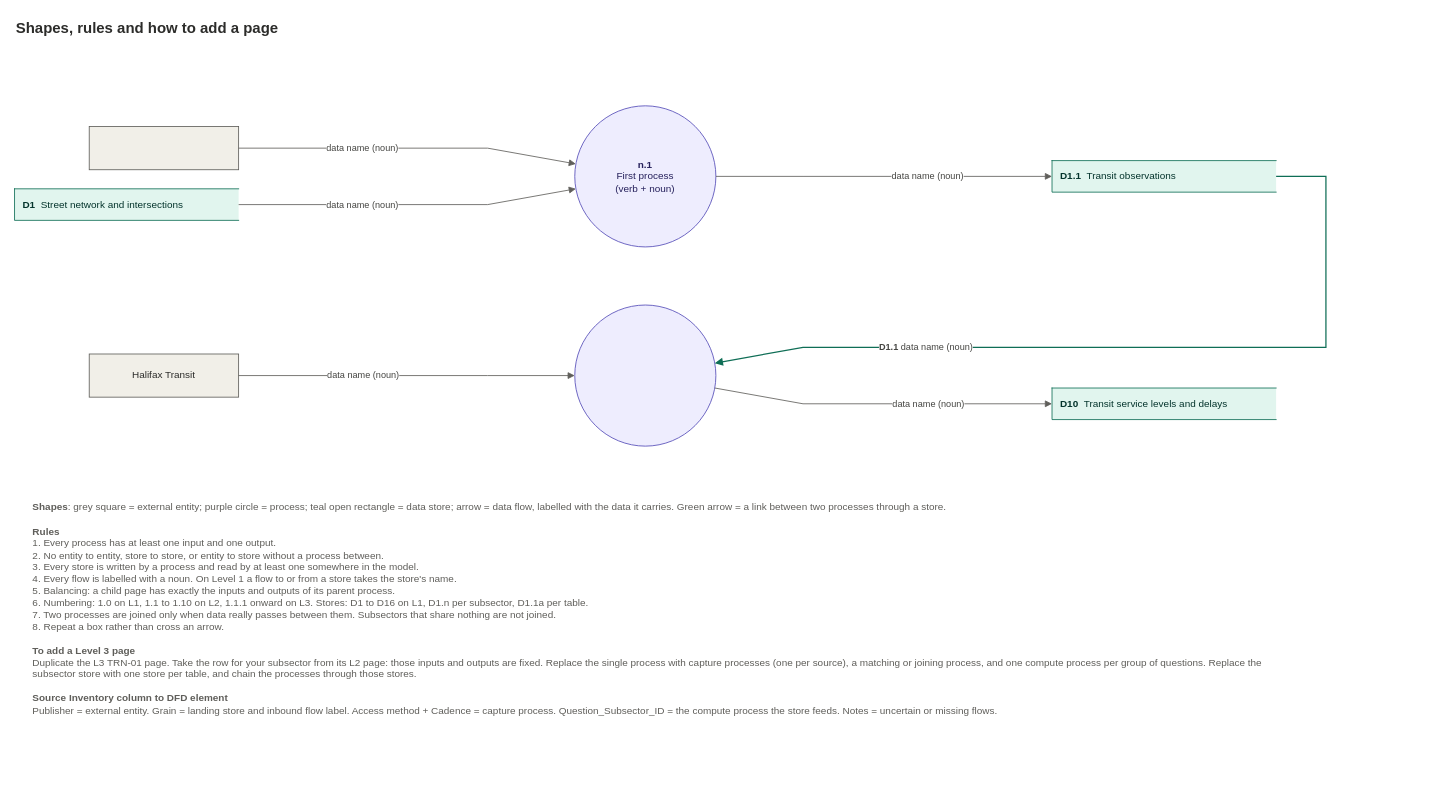
Some shapes in this 1440 by 808 pixel diagram are drawn without their labels. The shapes that lost their labels are listed below. From the top down, each one's centre as x and y in pixels, then its label:
At [163,148]: "HRM Open Data".
At [645,375]: "n.2 Second process (verb + noun)".
